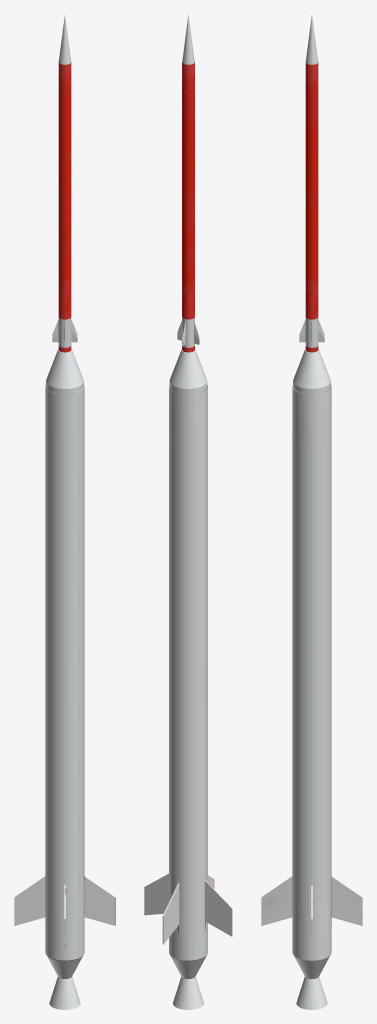
File: DARTcoloured2.glb
The picture shows the model from 3 angles, left to right: view 1: azimuth 90°, elevation 25°; view 2: azimuth 150°, elevation 25°; view 3: azimuth 270°, elevation 25°; orthographic projection.
Parts seen in each view (by area): view 1: DART; view 2: DART; view 3: DART.
Part boxes in pixels (x1,y1,x2,y2): DART: (14, 15, 115, 1009); DART: (144, 14, 232, 1009); DART: (261, 15, 362, 1009).
Size of the model in its own units: 32.2 by 346 by 32.2.
Materials: 1 (1 with a texture image).
